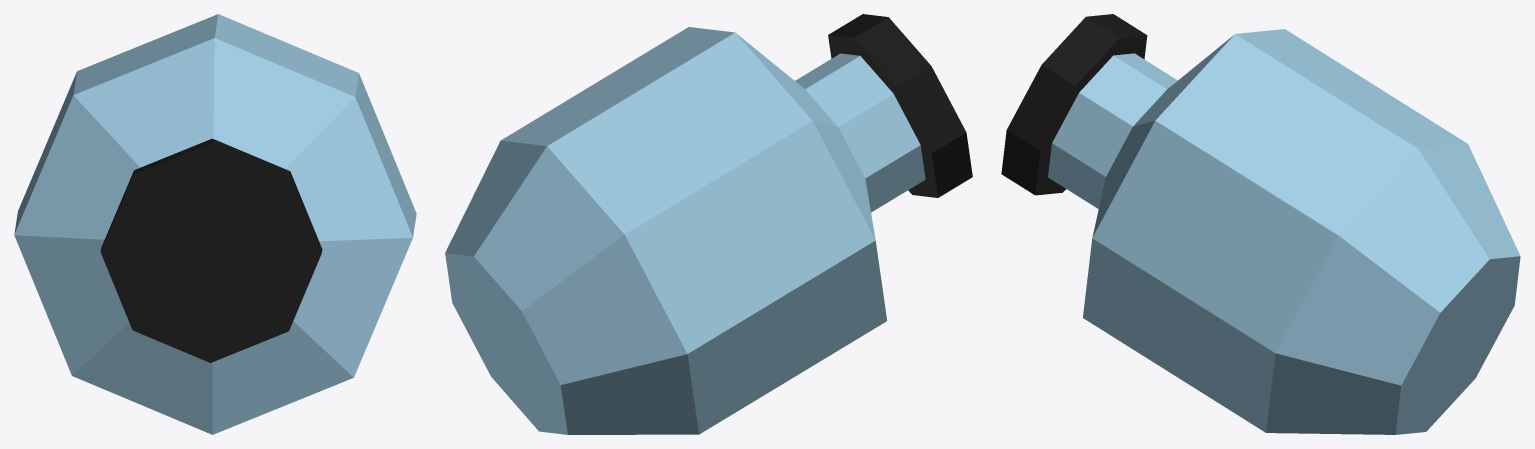
The model's file is Health Potion.fbx.
3 renders of one model, left to right at view 1: azimuth 30°, elevation 25°; view 2: azimuth 150°, elevation 25°; view 3: azimuth 270°, elevation 25°, orthographic. The views are drawn at different scales.
Parts seen in each view (by area): view 1: Entrance.001; view 2: Entrance.001; view 3: Entrance.001.
Boxes of the visible parts, left/top/right/bottom form: Entrance.001: left=14, top=14, right=416, bottom=434; Entrance.001: left=445, top=14, right=972, bottom=434; Entrance.001: left=1001, top=14, right=1520, bottom=434.
Size of the model in its own units: 2.2 by 2.14 by 2.7.
